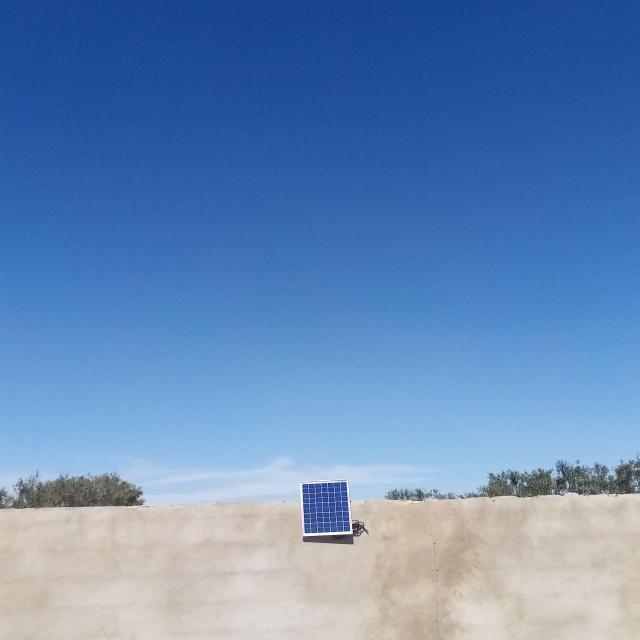no faulty: (300, 480, 353, 536)
